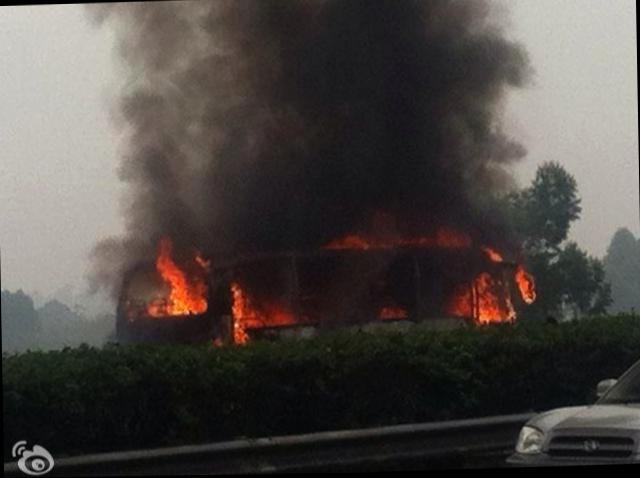fire: (128, 214, 542, 345)
